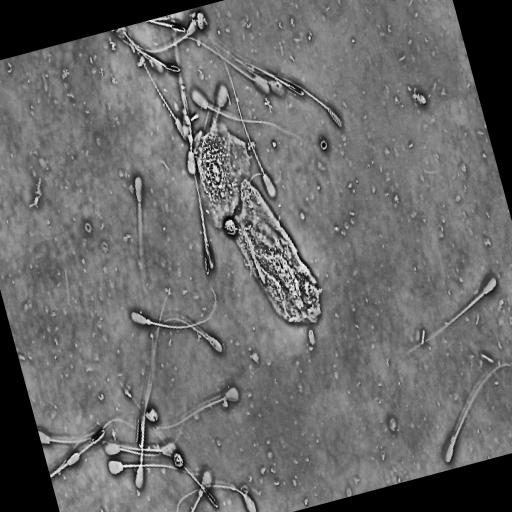dirt-particles: (192, 117, 324, 332), (188, 7, 209, 32), (409, 89, 428, 107), (170, 450, 185, 469), (319, 135, 328, 151)
normal: (206, 27, 279, 199), (401, 276, 498, 357), (125, 27, 190, 143), (440, 360, 510, 466), (191, 87, 305, 144), (175, 30, 271, 95), (146, 382, 241, 433), (129, 283, 218, 331), (150, 313, 222, 361), (131, 172, 155, 314), (134, 355, 155, 489), (175, 479, 260, 512), (106, 458, 213, 477), (100, 439, 177, 457)
proximal-droplet: (146, 319, 150, 325)
